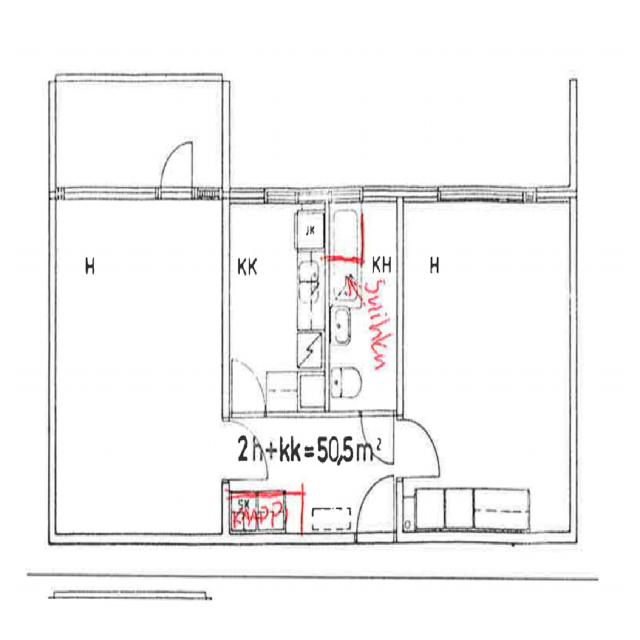door: (222, 421, 268, 479), (396, 419, 442, 477), (356, 477, 394, 543), (231, 360, 265, 417), (160, 142, 192, 202), (361, 410, 394, 466)
